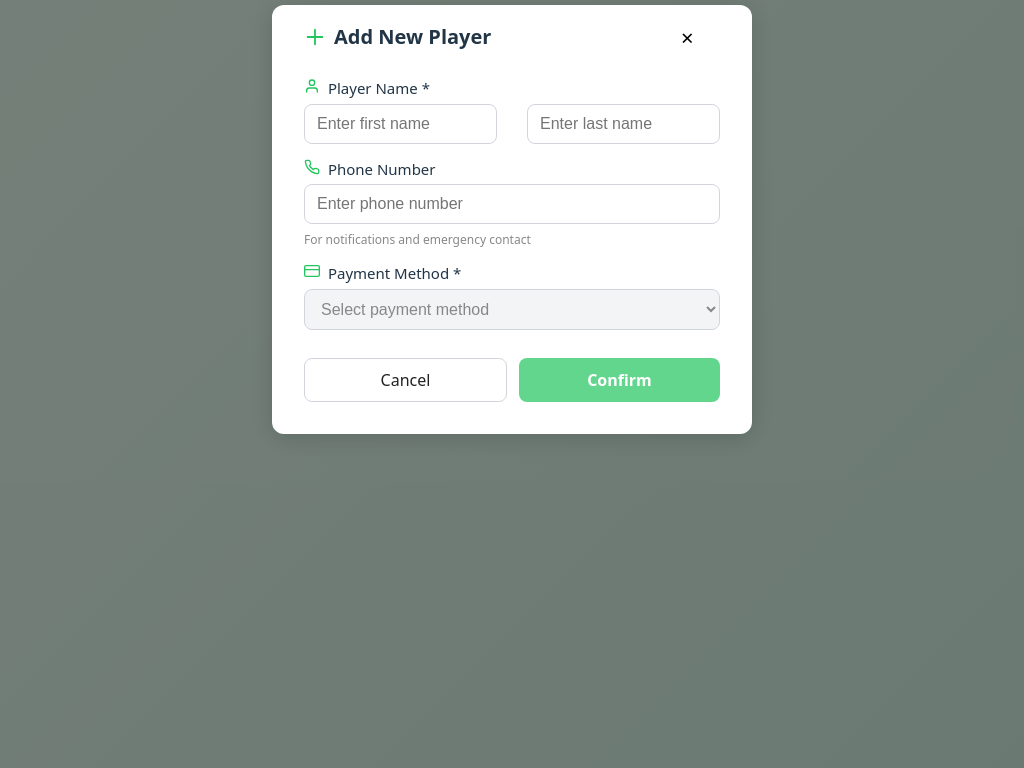
AddPlayerModal Cancel Confirmation › should show confirmation modal when first name is filled
This screenshot has width=1024, height=768.
Type "John" into the field with placeholder "Enter first name" at (400, 124), box [304, 104, 497, 144]
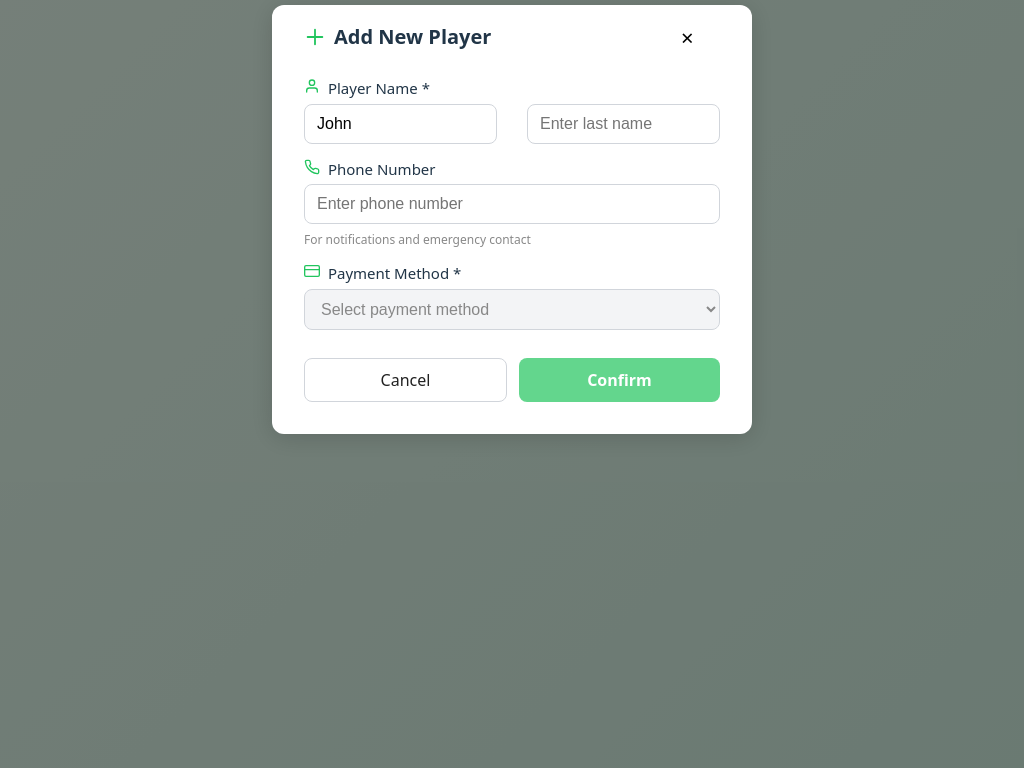
Click the button "Cancel" at (406, 380), box [304, 358, 507, 402]
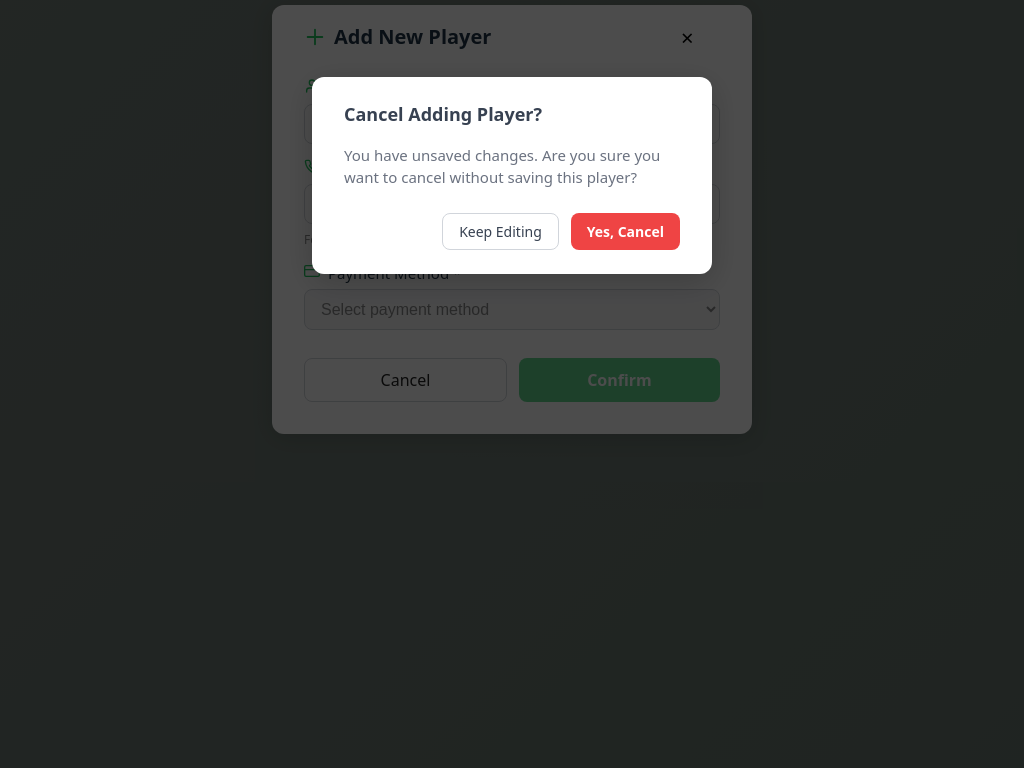
Expected: the heading "Cancel Adding Player?" is shown, [344, 102, 542, 126]
Expected: the text "You have unsaved changes. Are you sure you want to cancel without saving this player?" is shown, [344, 145, 660, 187]
